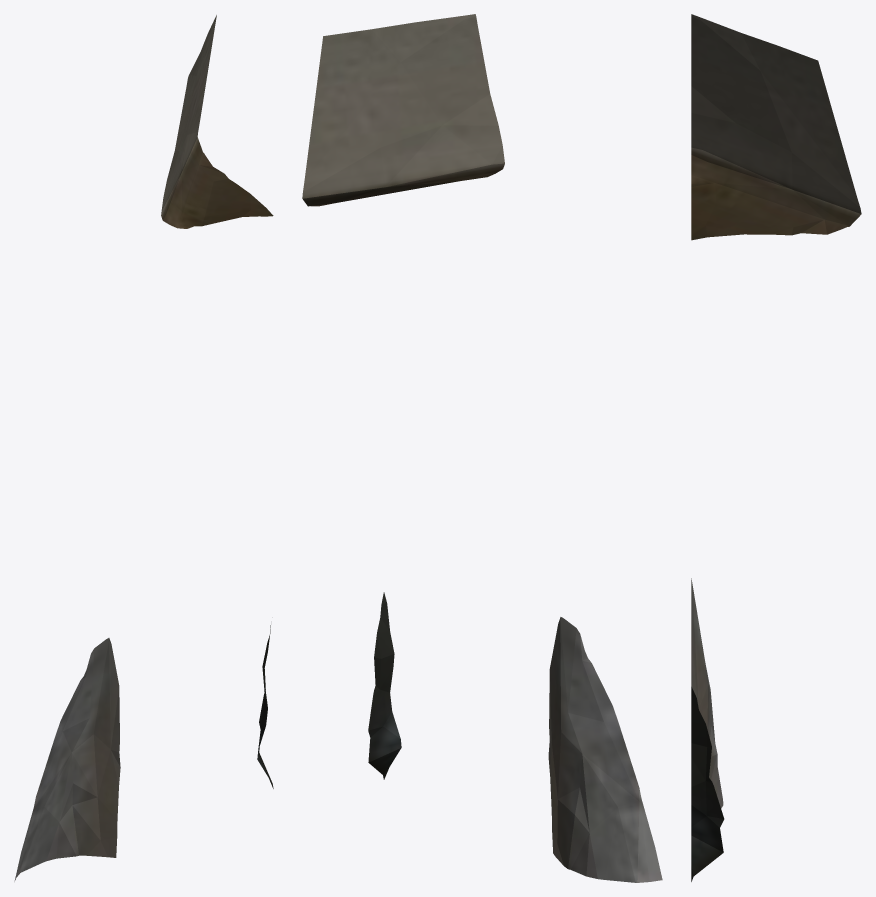
3 views of the same model, side by side, from view 1: azimuth 30°, elevation 25°; view 2: azimuth 150°, elevation 25°; view 3: azimuth 270°, elevation 25° (orthographic). The views are drawn at different scales.
Size of the model in its own units: 0.2976 by 0.8373 by 0.1511.
Materials: 1 (1 with a texture image).
